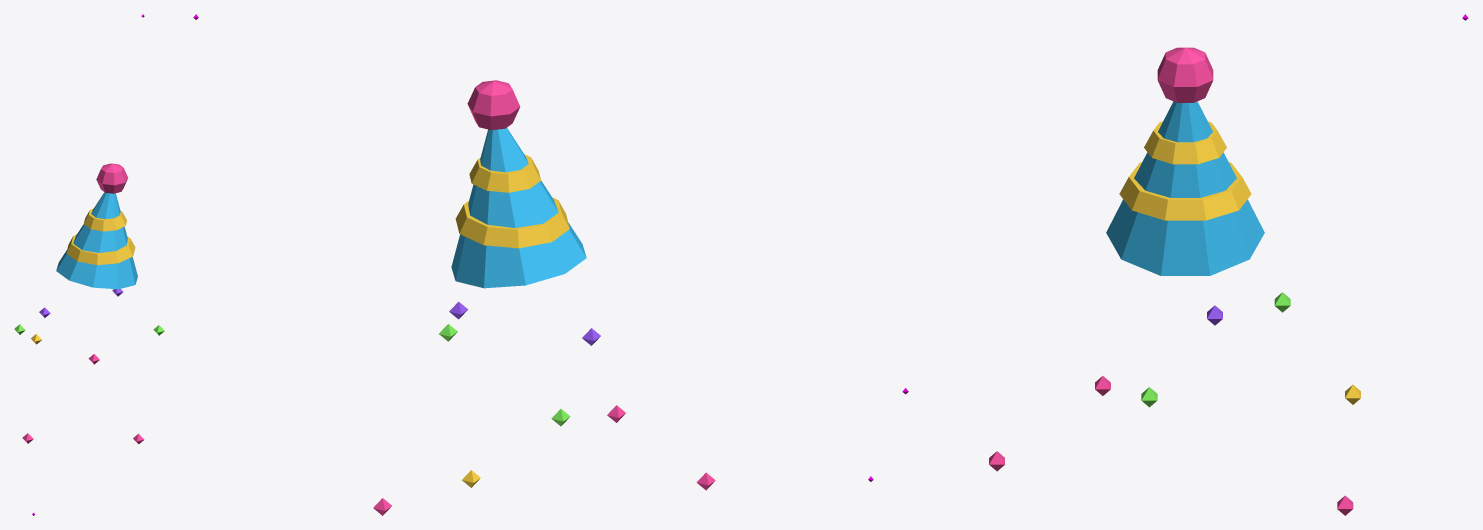
The model's file is acc_party_hat.fbx.
The picture shows the model from 3 angles, left to right: view 1: azimuth 30°, elevation 25°; view 2: azimuth 150°, elevation 25°; view 3: azimuth 270°, elevation 25°; orthographic projection. The views are drawn at different scales.
Visible parts, largest first — view 1: Hat, Stripes, Pompom, Confetti; view 2: Hat, Stripes, Pompom, Confetti; view 3: Hat, Stripes, Pompom, Confetti.
Boxes of the visible parts, bbox=[...] form: Hat: bbox=[56, 192, 137, 289]; Stripes: bbox=[66, 208, 135, 265]; Pompom: bbox=[96, 163, 128, 193]; Confetti: bbox=[14, 289, 164, 444]; Hat: bbox=[451, 128, 586, 288]; Stripes: bbox=[455, 154, 569, 248]; Pompom: bbox=[467, 80, 520, 130]; Confetti: bbox=[373, 301, 715, 515]; Hat: bbox=[1106, 101, 1264, 275]; Stripes: bbox=[1119, 121, 1251, 220]; Pompom: bbox=[1157, 47, 1213, 102]; Confetti: bbox=[989, 292, 1360, 515].
Bounding box in the file's own units: 2.99 × 3.6 × 2.99.
